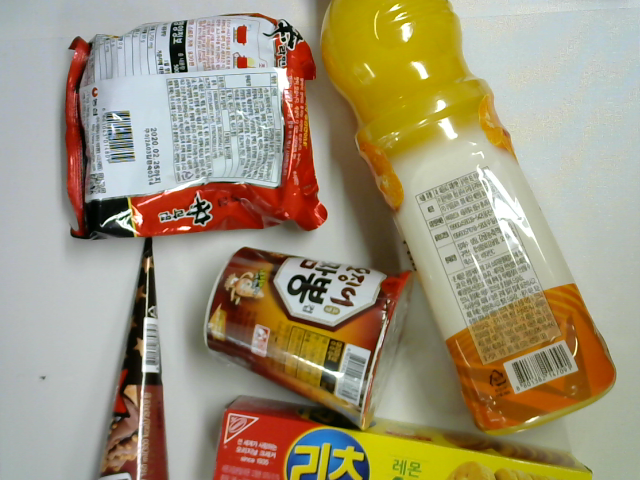GooGoo_Cone_CVS: (97, 235, 172, 480)
Jeju_Tangerine_1.5L: (319, 1, 619, 442)
Ojjam: (202, 246, 417, 432)
Ritz_Remon_96g: (211, 394, 594, 480)
Sinramen: (56, 8, 335, 243)
